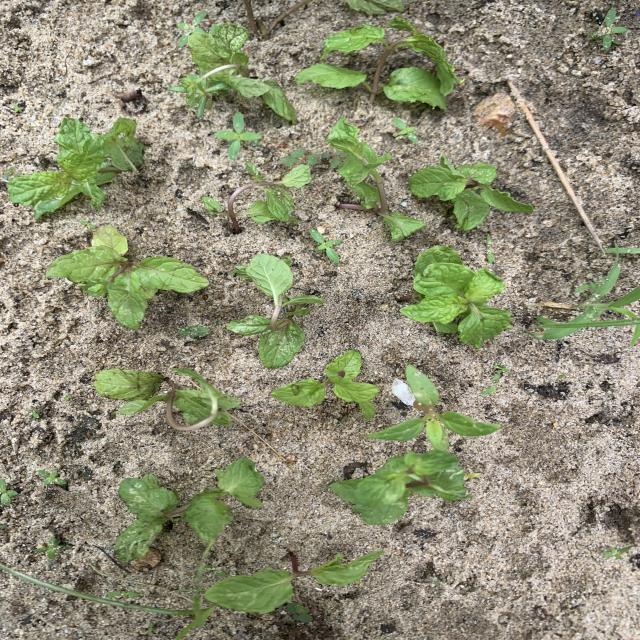crop: (46, 226, 207, 328), (115, 457, 263, 561), (297, 19, 462, 108), (8, 118, 142, 218), (330, 118, 423, 240), (368, 365, 499, 450), (400, 246, 511, 346), (228, 254, 323, 367), (205, 551, 383, 611), (189, 23, 295, 120), (331, 450, 468, 523), (409, 154, 531, 231), (95, 368, 239, 431), (202, 162, 311, 230), (273, 350, 375, 410), (244, 0, 313, 39), (344, 0, 404, 15)
weed: (169, 74, 226, 117), (216, 112, 260, 159), (589, 8, 627, 49), (177, 12, 205, 46), (311, 230, 341, 261), (37, 536, 67, 559), (282, 149, 320, 167), (394, 118, 417, 142), (287, 603, 311, 622), (0, 479, 17, 505), (38, 470, 65, 485), (179, 325, 209, 338), (603, 546, 631, 559), (605, 246, 639, 255), (106, 592, 139, 599), (493, 364, 507, 379), (480, 383, 495, 394), (0, 523, 14, 533), (81, 221, 95, 230), (27, 409, 39, 419), (466, 473, 479, 479), (12, 104, 22, 111), (64, 394, 71, 400)
